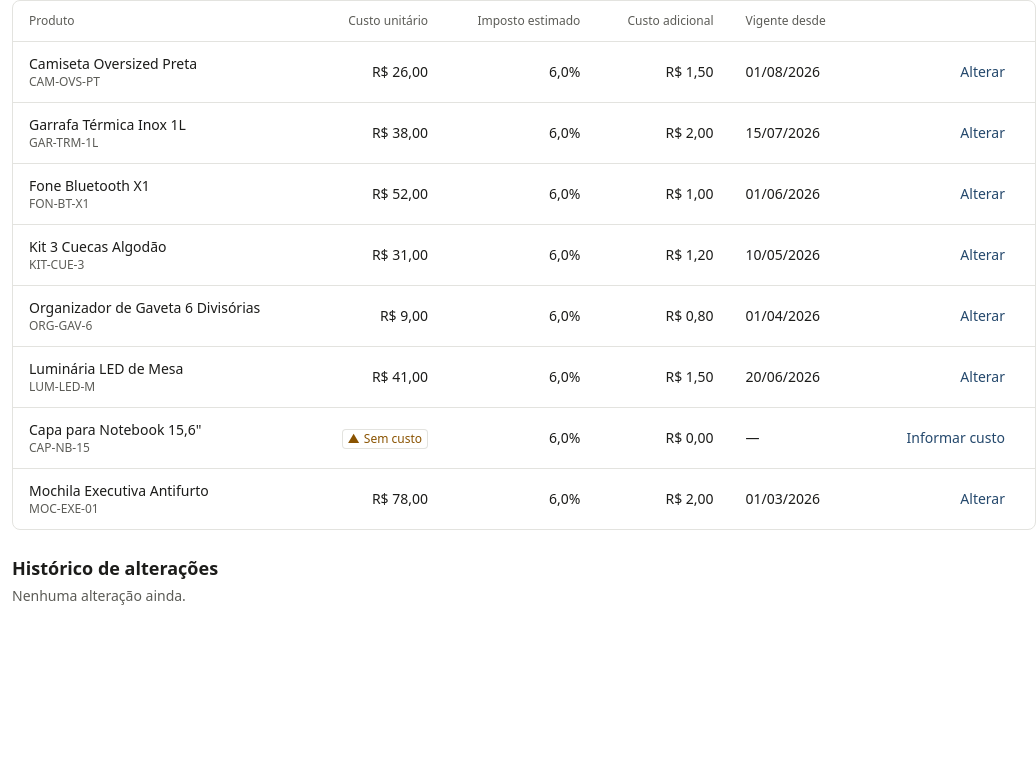
CostsEditor › cria nova vigência ao informar custo e preserva o histórico
The image size is (1036, 768).
Click the button named "Informar custo de Capa para Notebook 15,6\"" at (956, 438), box [893, 420, 1019, 456]
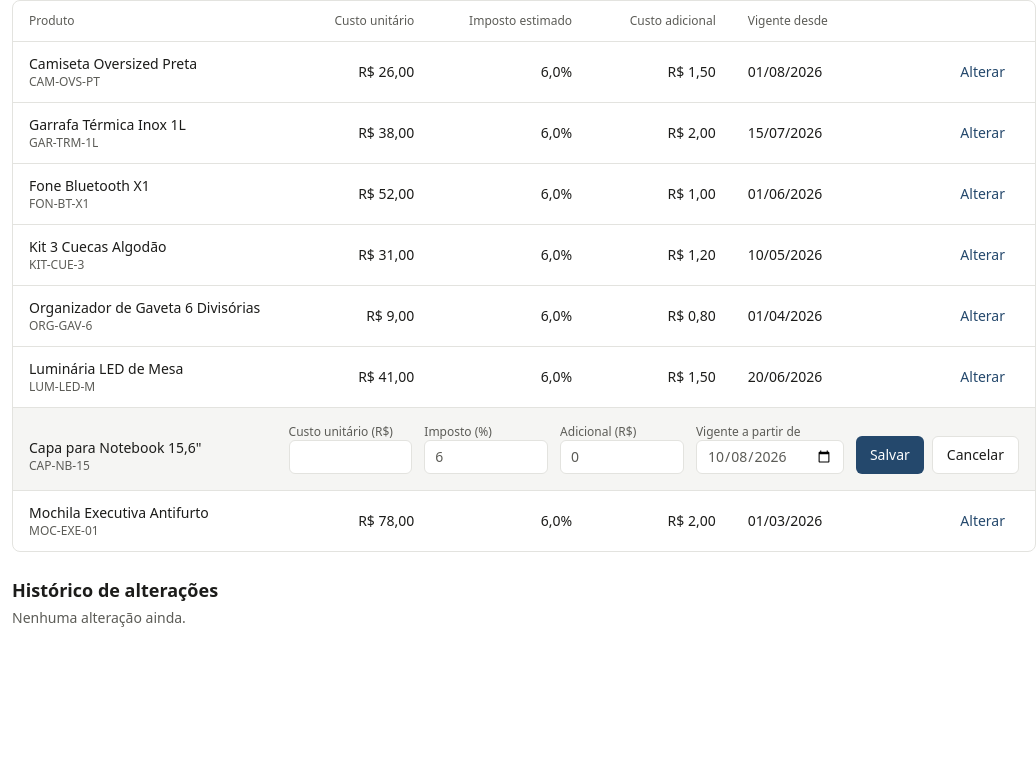
Type "32,50" into the field labelled "Custo unitário (R$)" at (350, 457), box [288, 440, 412, 474]
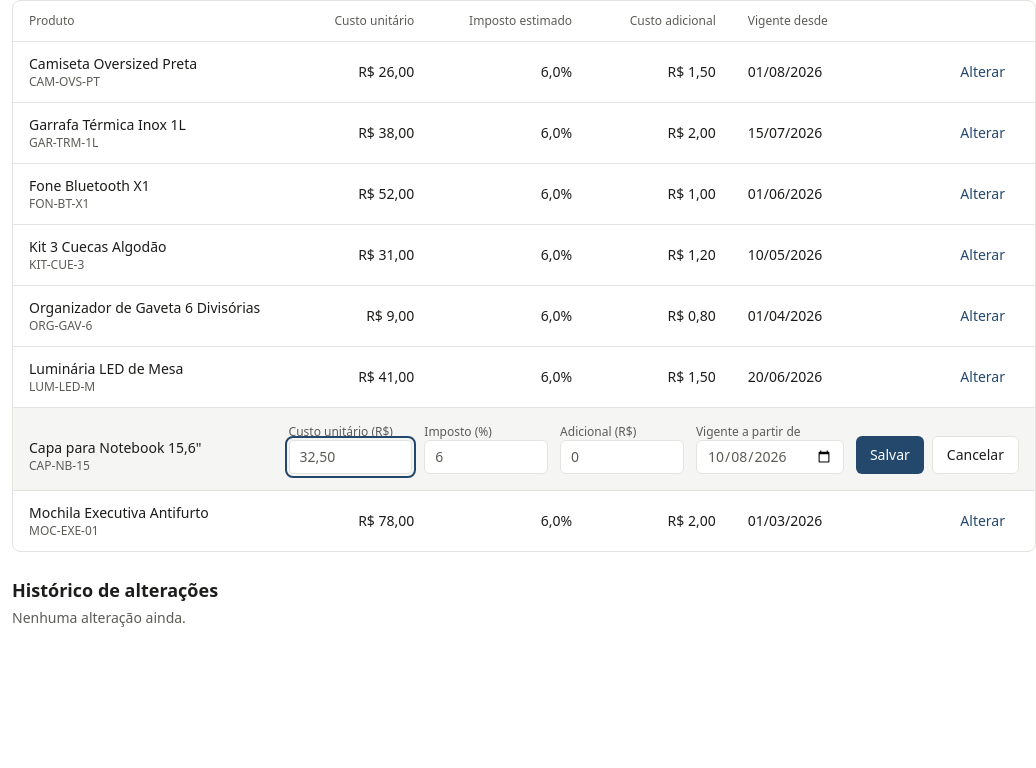
Click the button "Salvar" at (890, 455), box [856, 436, 924, 474]
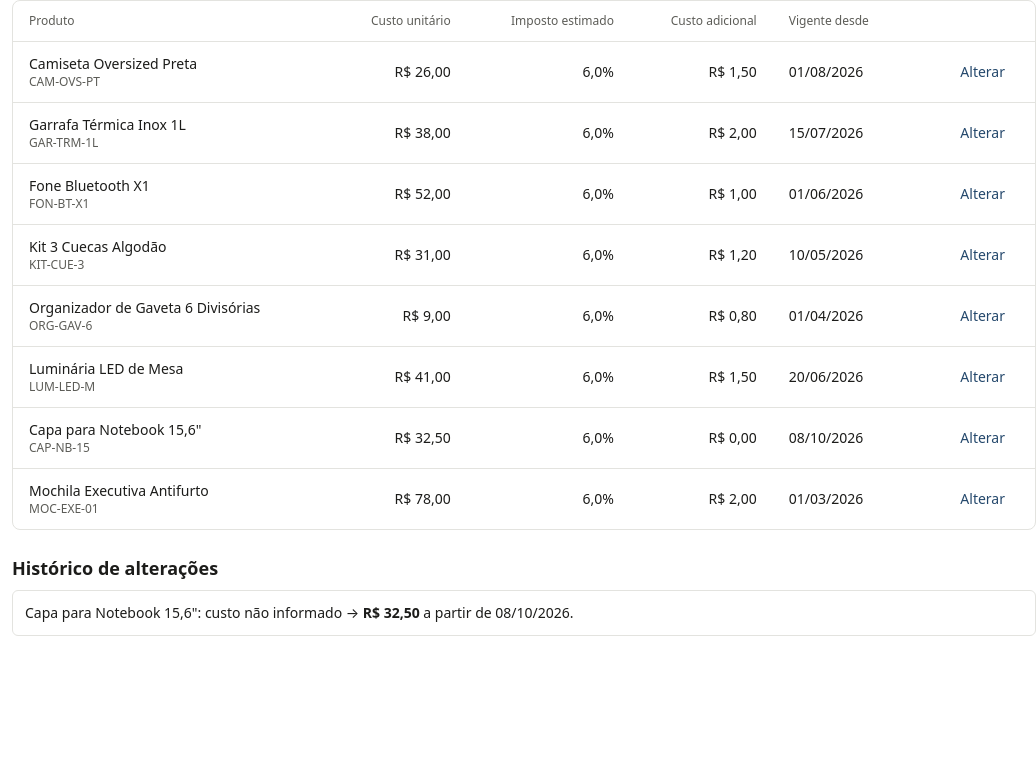
Expected: the text "Sem custo" is not shown
Expected: the text "não informado" is shown, [244, 603, 342, 622]
Expected: the text "32,50" is shown, [395, 428, 451, 447]
